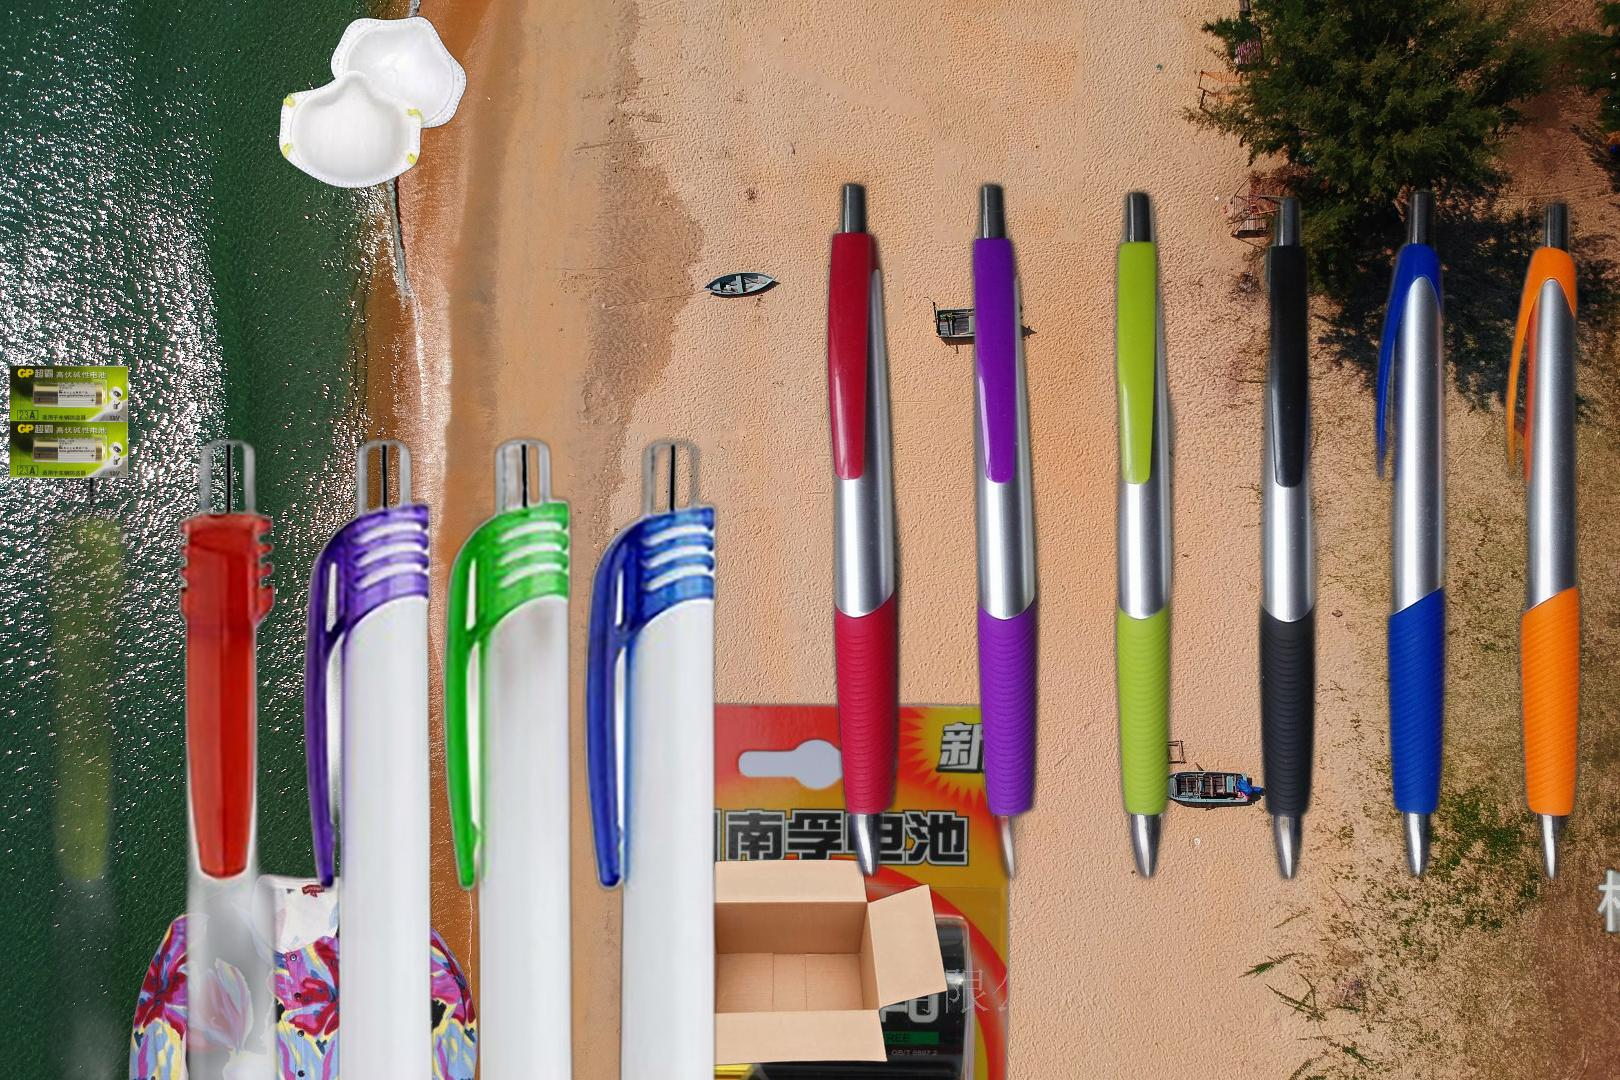battery: (615, 699, 1017, 1080), (6, 362, 131, 481)
clothes: (118, 868, 491, 1080)
penholder: (817, 11, 1620, 1011), (5, 428, 732, 1080), (1534, 591, 1620, 1080)
trash: (276, 13, 470, 190)
trashbox-cardboard: (630, 858, 952, 1069)
